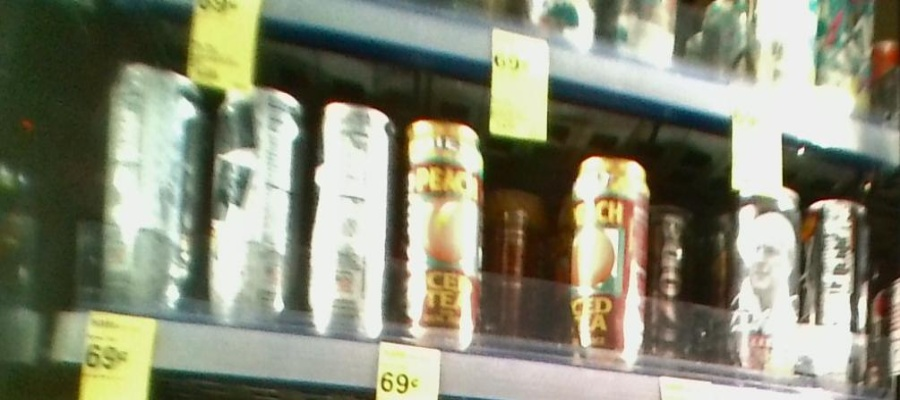bottle: (98, 63, 205, 338), (209, 78, 304, 331), (309, 95, 400, 339), (403, 106, 487, 344), (568, 148, 650, 362), (729, 181, 803, 376), (807, 190, 872, 386)
